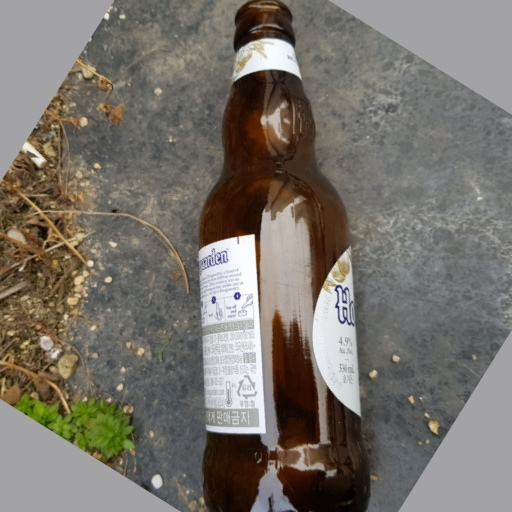Glass_1: (194, 2, 372, 512)
